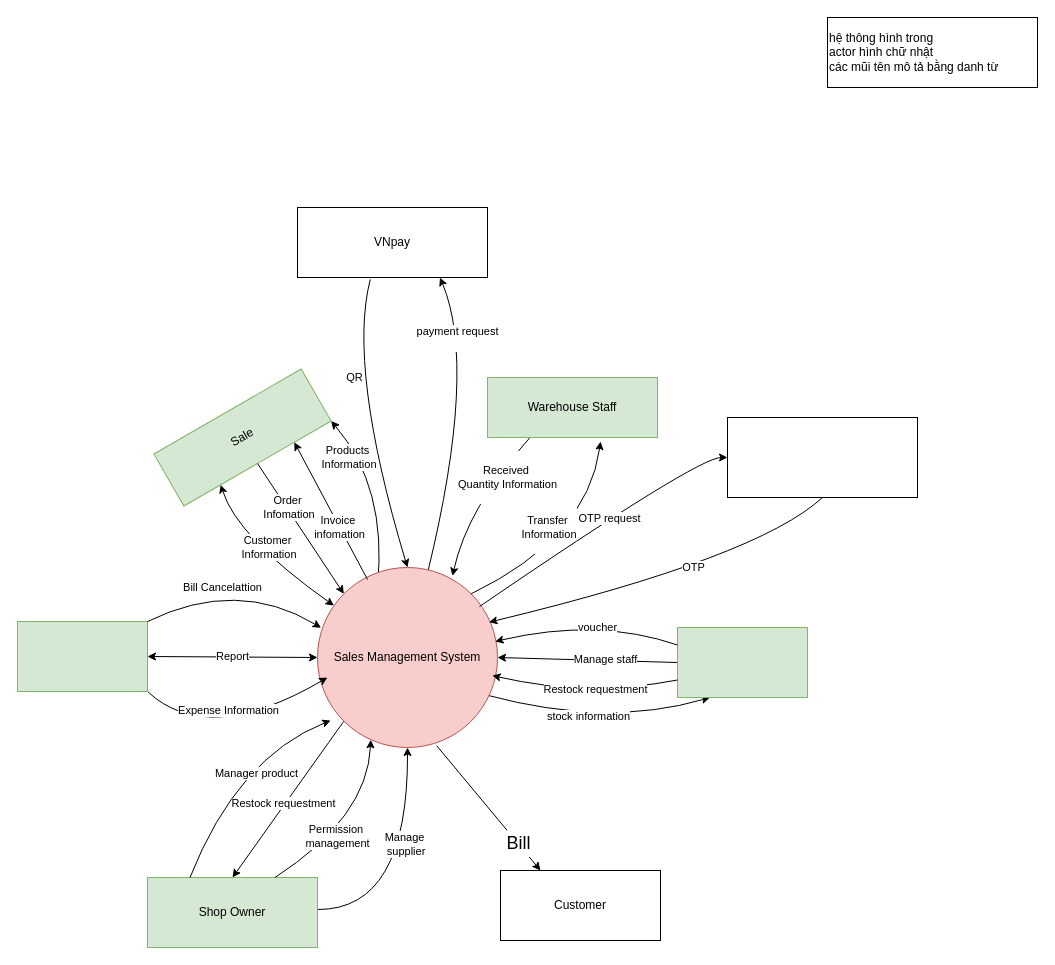
The diagram is 1055 pixels wide and 965 high, and some of its shapes have lost their labels. Each missing label, with the centre of its shape:
"Accountant" belongs at [82,656].
"Email Service" belongs at [822,457].
"Store Manager" belongs at [742,662].
